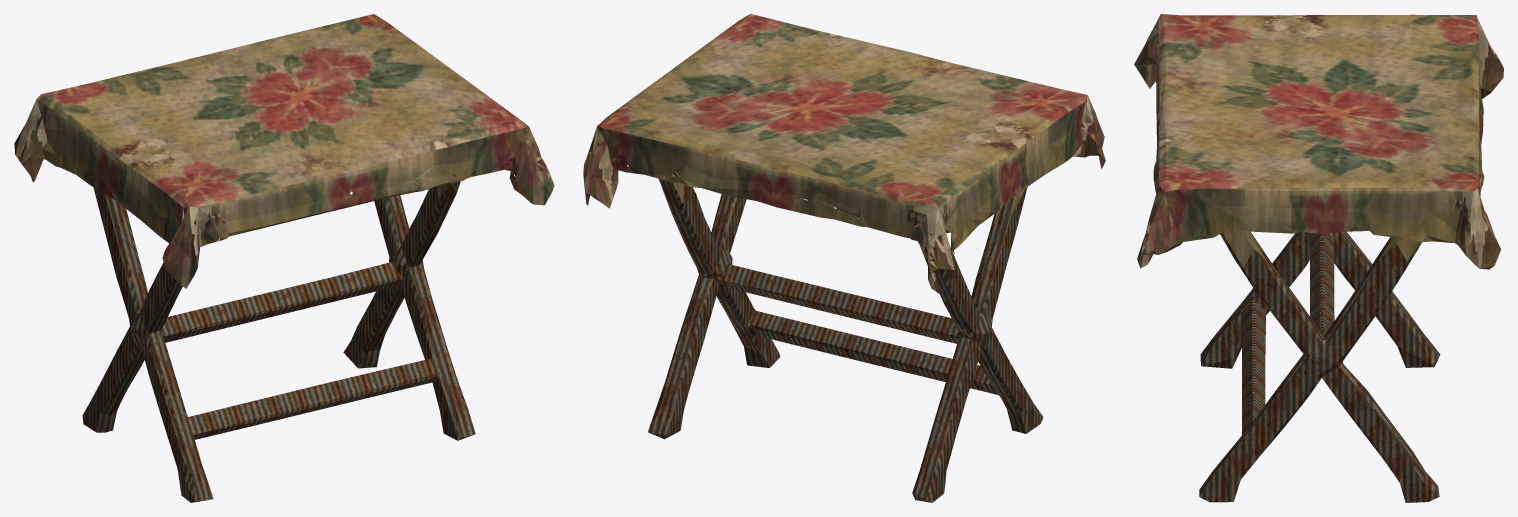
The model's file is table_stall_folding_reduced.glb.
3 renders of one model, left to right at view 1: azimuth 30°, elevation 25°; view 2: azimuth 150°, elevation 25°; view 3: azimuth 270°, elevation 25°, orthographic. The views are drawn at different scales.
Visible parts, largest first — view 1: FloralOilcloth, RustyXLegs; view 2: FloralOilcloth, RustyXLegs; view 3: FloralOilcloth, RustyXLegs.
Boxes of the visible parts, box(x1,y1,x2,y2) form: FloralOilcloth: box(14, 14, 554, 288); RustyXLegs: box(31, 177, 475, 502); FloralOilcloth: box(583, 14, 1105, 287); RustyXLegs: box(648, 180, 1043, 502); FloralOilcloth: box(1134, 14, 1503, 269); RustyXLegs: box(1199, 89, 1491, 502).
Bounding box in the file's own units: 1.96 × 1.6 × 1.6.
2 materials, 2 textured.
